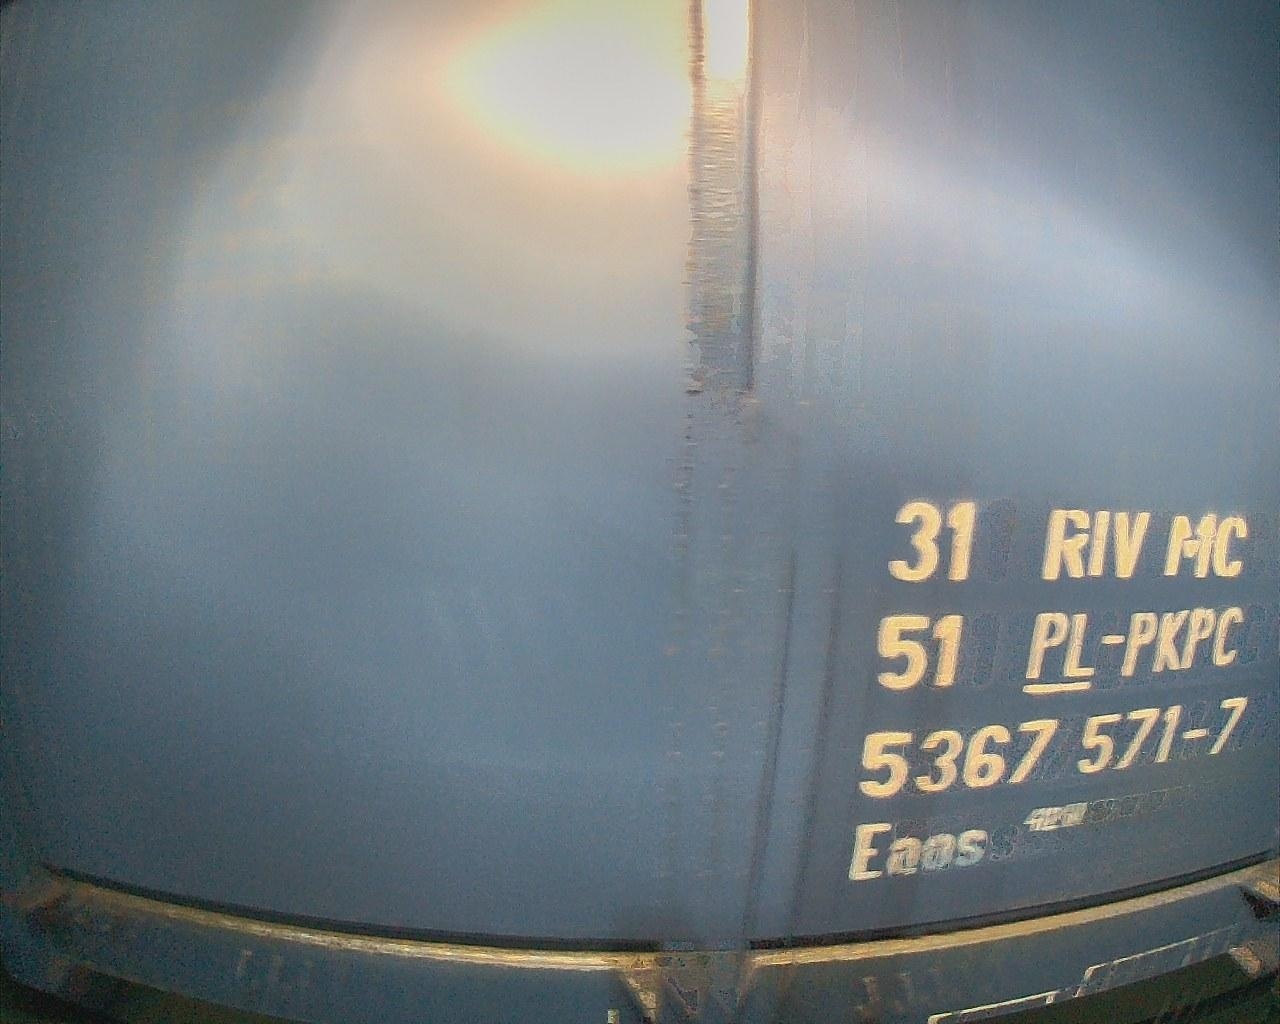UIC: (844, 494, 1251, 888)
